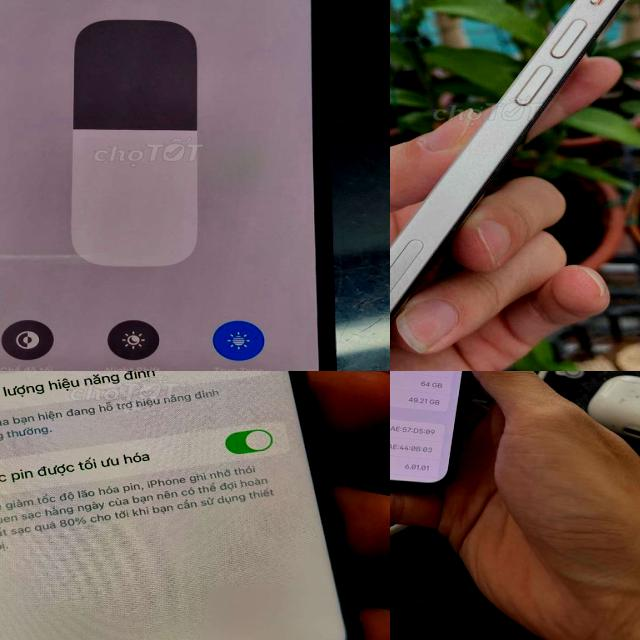gen_12_13: (0, 0, 357, 371), (390, 0, 640, 371)
gen_x_xs: (0, 371, 372, 640)
